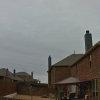Chimney: (78, 25, 95, 50)
